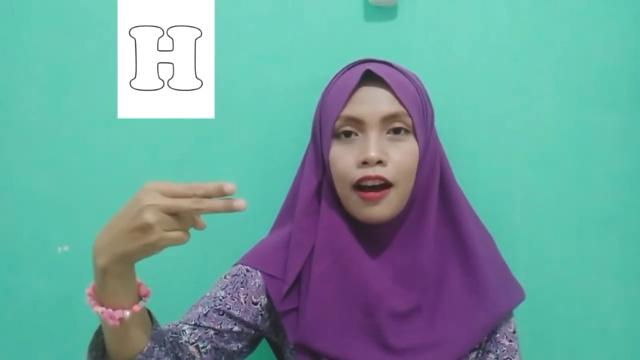H: (85, 179, 248, 269)
